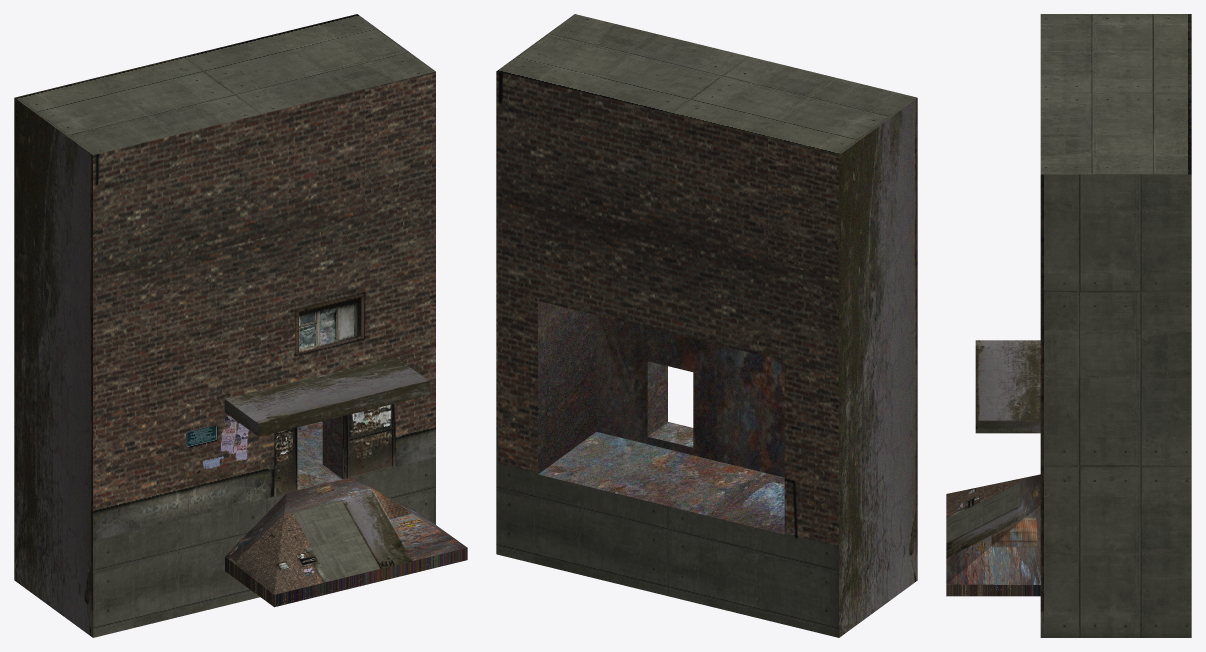
Rendered from padic_phys.glb.
The picture shows the model from 3 angles, left to right: view 1: azimuth 30°, elevation 25°; view 2: azimuth 150°, elevation 25°; view 3: azimuth 270°, elevation 25°; orthographic projection. The views are drawn at different scales.
Parts seen in each view (by area): view 1: padic.001; view 2: padic.001; view 3: padic.001.
Boxes of the visible parts, left/top/right/bottom form: padic.001: left=14, top=14, right=467, bottom=637; padic.001: left=496, top=14, right=917, bottom=637; padic.001: left=946, top=14, right=1191, bottom=637.
Bounding box in the file's own units: 11.03 × 14.84 × 7.13.
1 material, 1 textured.
